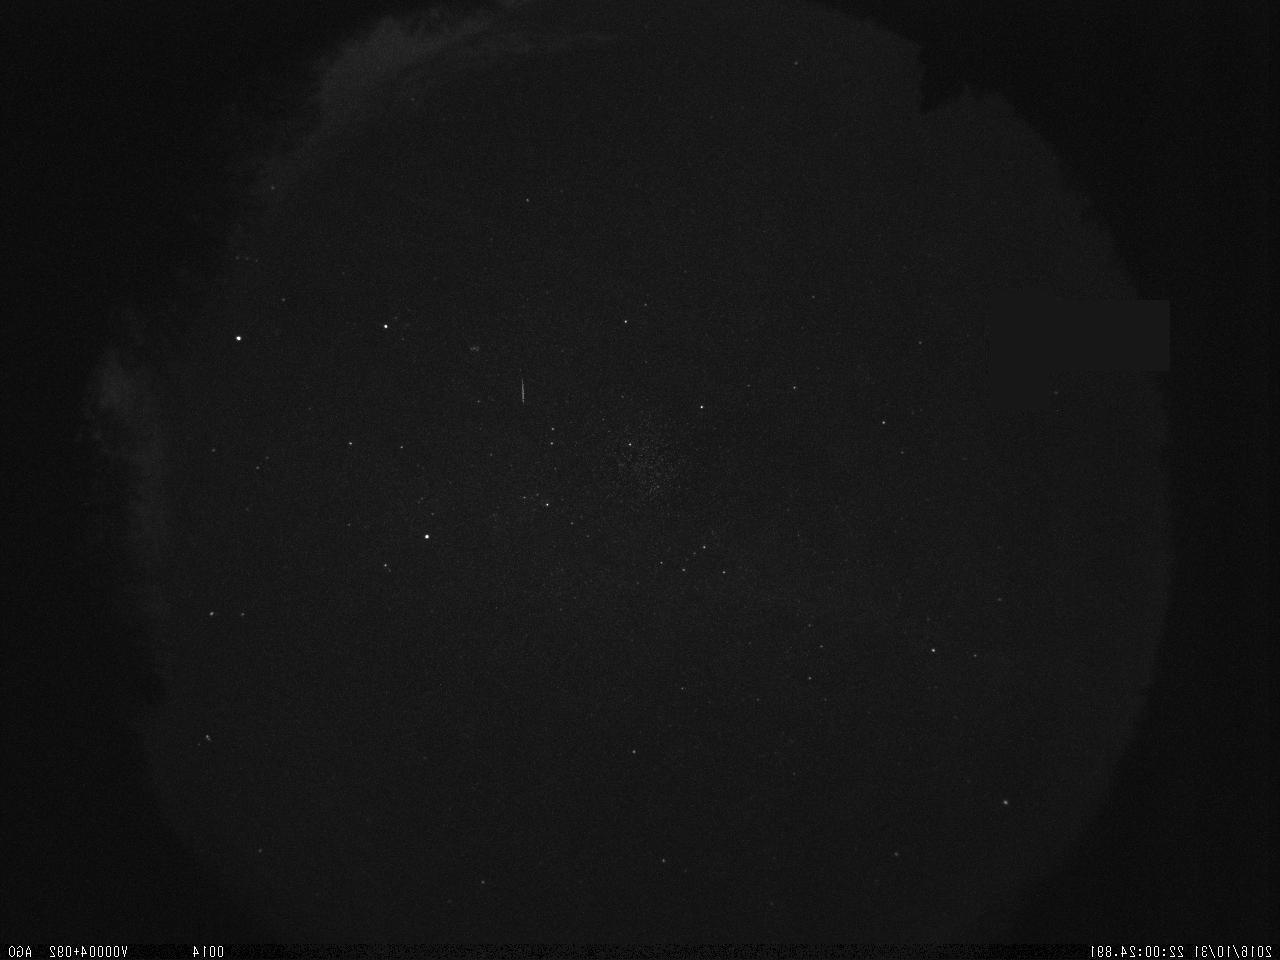meteor: (503, 369, 539, 413)
